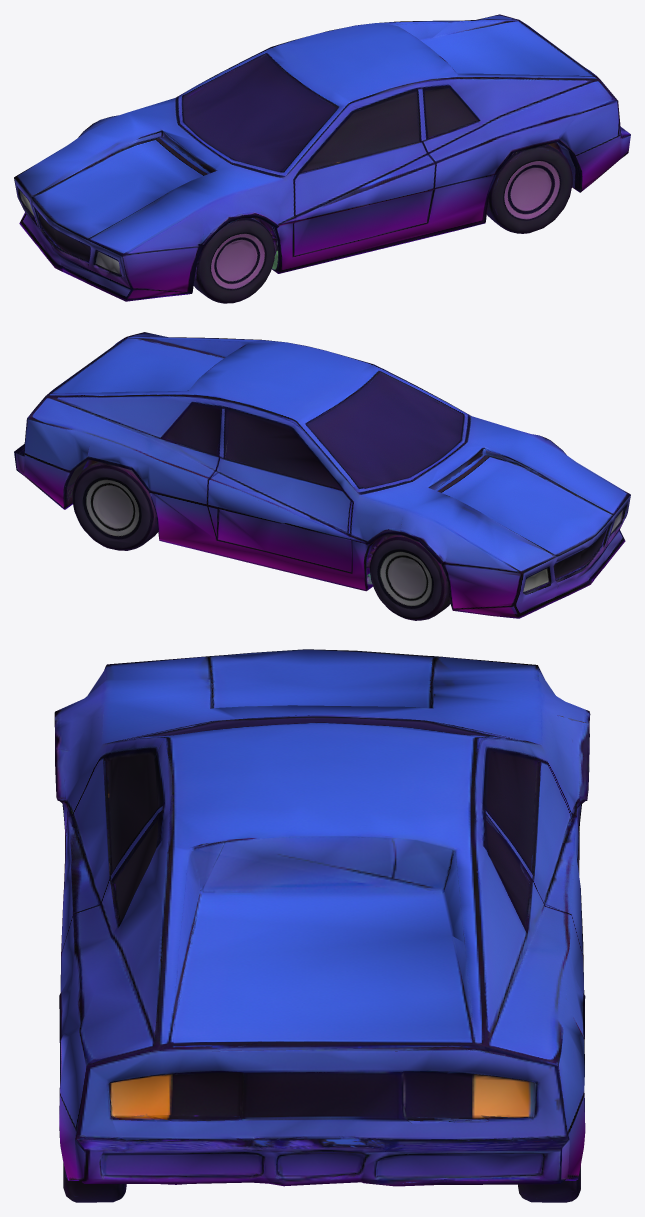
File: car_rival_a.glb
3 views of the same model, one above another, from view 1: azimuth 30°, elevation 25°; view 2: azimuth 150°, elevation 25°; view 3: azimuth 270°, elevation 25° (orthographic). The views are drawn at different scales.
Parts seen in each view (by area): view 1: Mesh_0; view 2: Mesh_0; view 3: Mesh_0.
Boxes of the visible parts, <box> form: Mesh_0: <box>14,14,630,303</box>; Mesh_0: <box>14,332,630,620</box>; Mesh_0: <box>54,649,590,1202</box>.
Size of the model in its own units: 1.9 by 0.5603 by 0.8451.
Materials: 1 (1 with a texture image).
